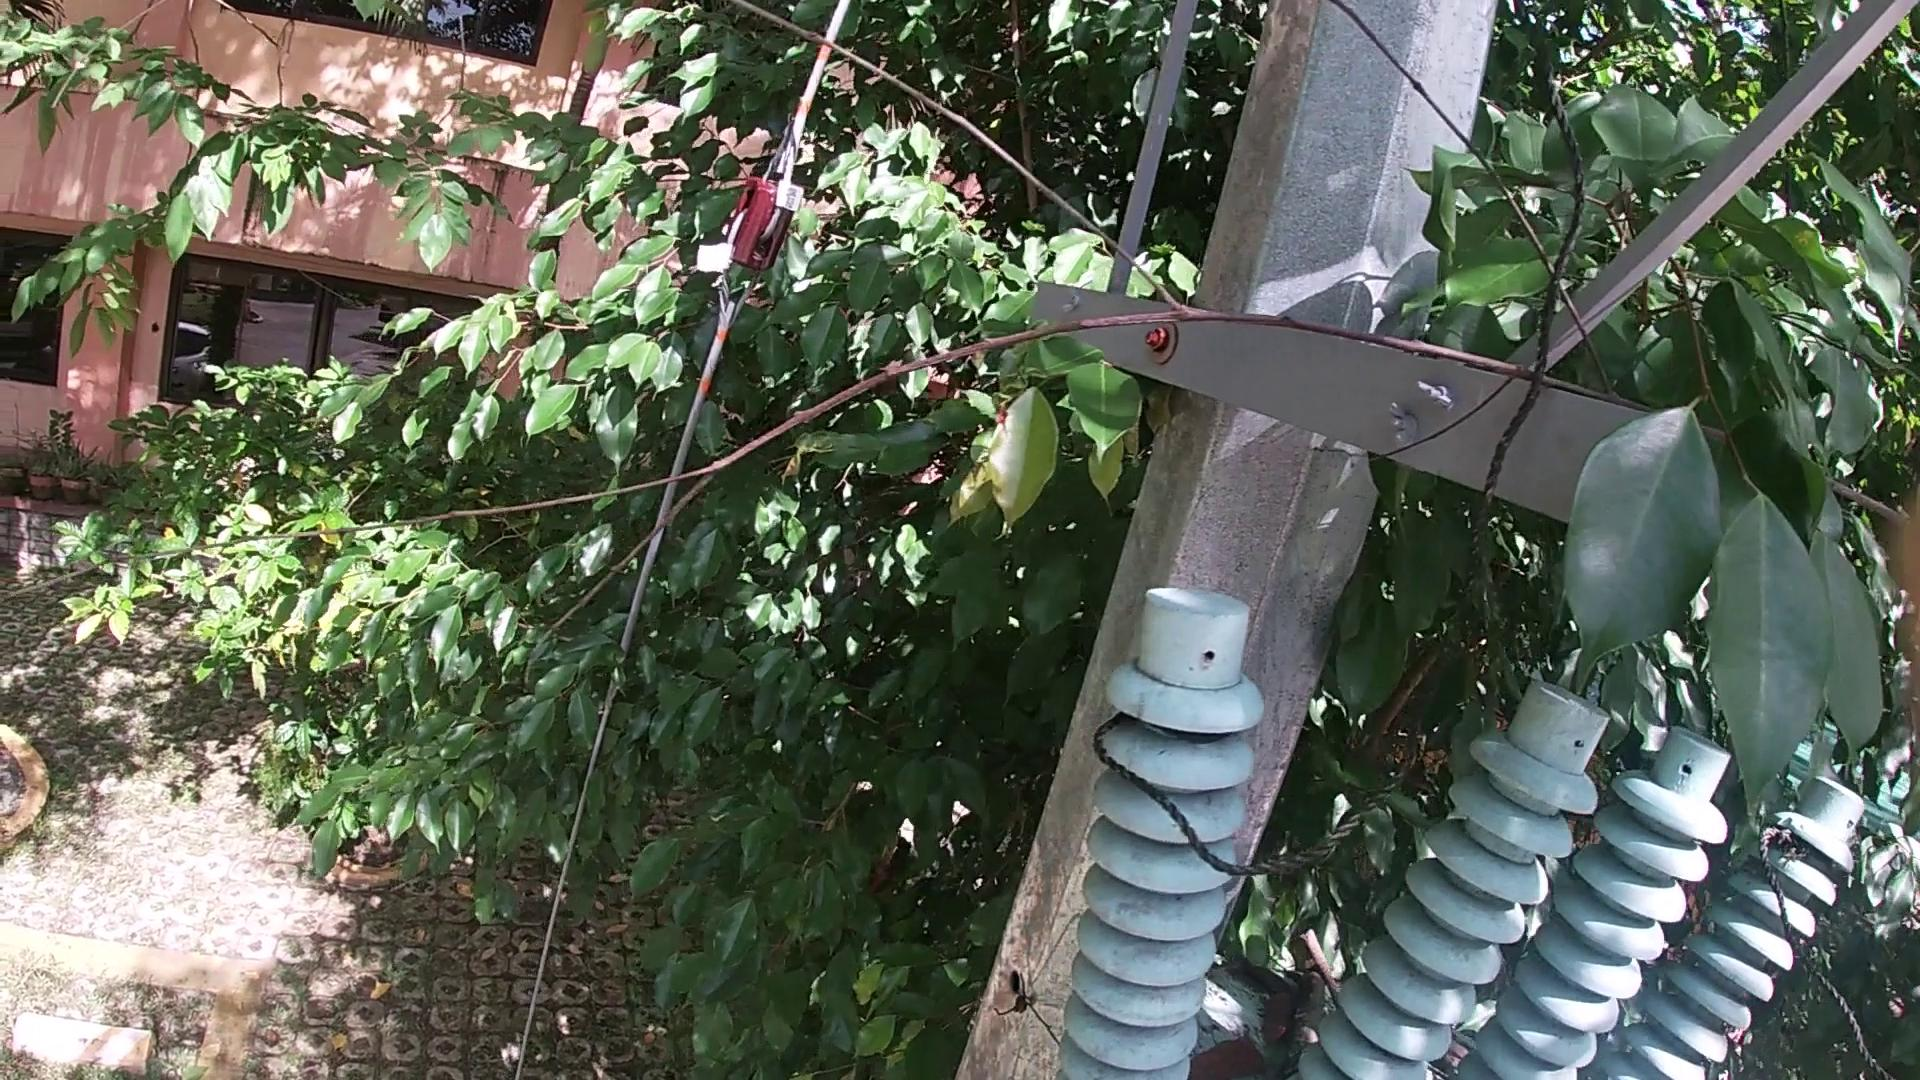leaf: (1266, 967, 1298, 1052), (1192, 1043, 1266, 1077)
tree branch: (13, 8, 1920, 690), (1295, 922, 1342, 998), (1302, 965, 1329, 1051)
